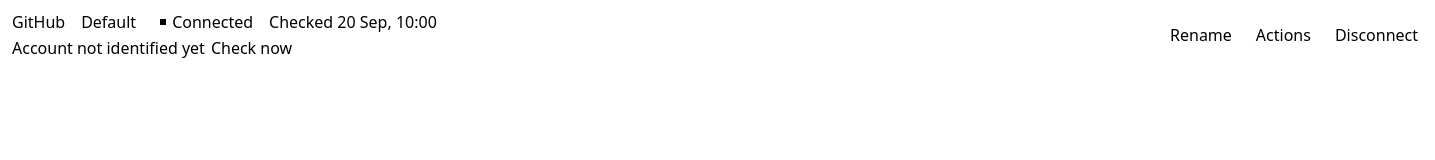
Test case: AppCard and its accounts dialog say which account is which (V6-35) › shows "Account not identified yet" with "Check now", which asks the app and shows the answer
The image size is (1435, 160).
Expected: the text "Account not identified yet" is shown, [12, 36, 205, 60]
Step 1. Click the button "Check now" → (252, 48), box [211, 36, 292, 60]
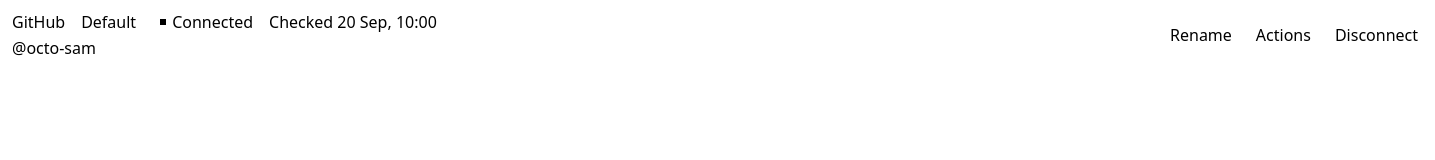
Expected: the text "@octo-sam" is shown, [12, 37, 96, 59]
Expected: the text "Account not identified yet" is gone
